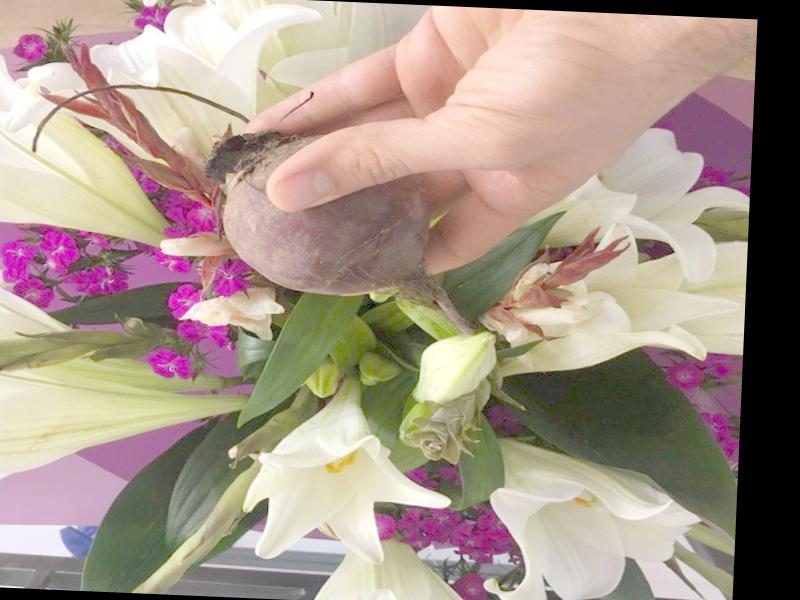Beet: (198, 128, 490, 338)
